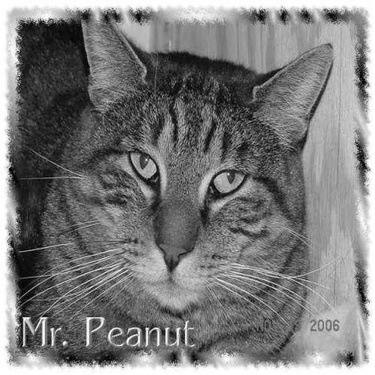cat: (23, 13, 320, 362)
